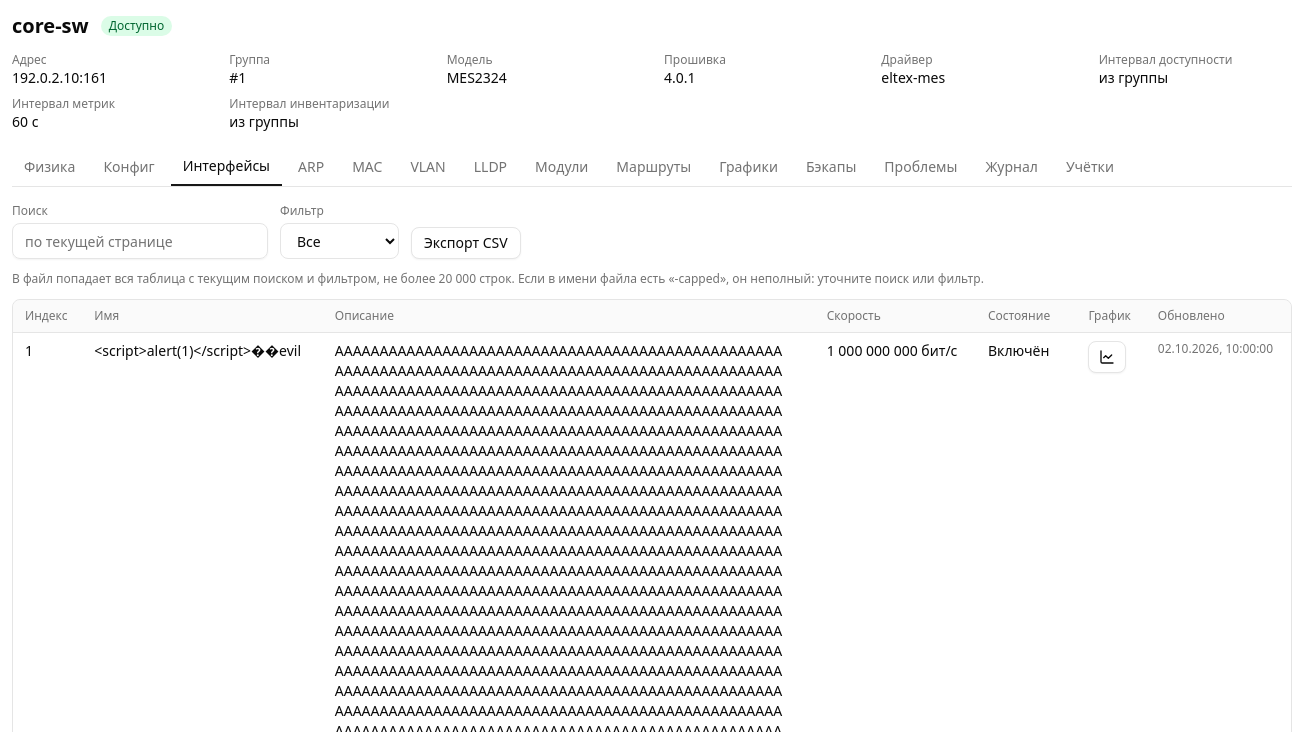
it: DeviceCard › journal tab lists the events of this device only
Click the tab "Журнал" at (1012, 167), box [973,148,1050,186]
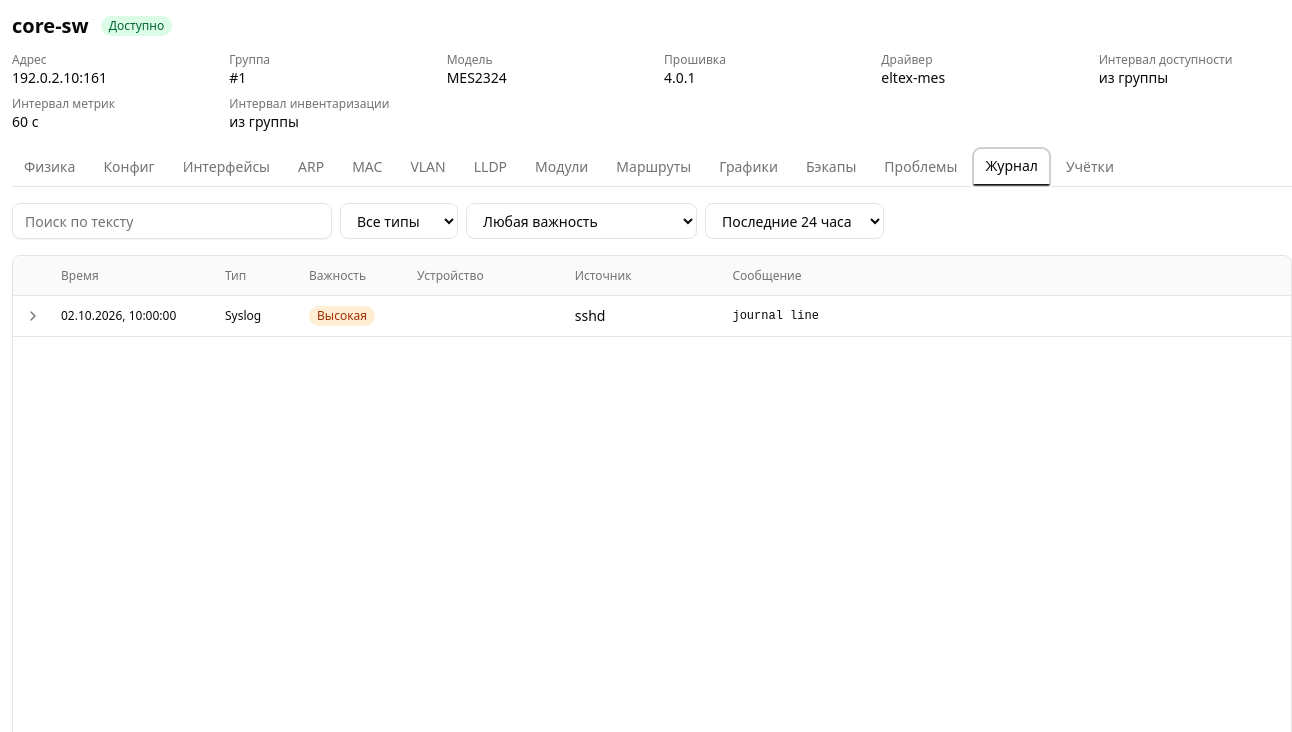
expect the text "journal line" is shown: met, box [732,309,819,323]
